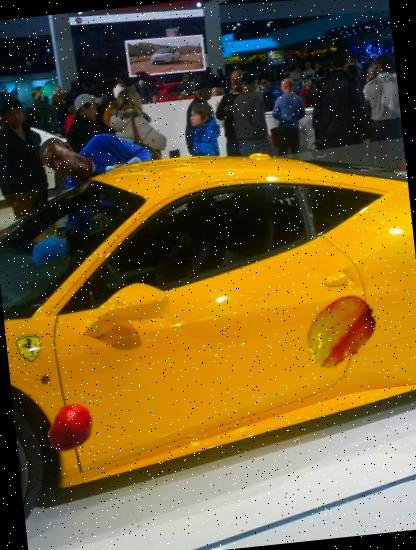Carambula: (296, 288, 385, 378)
Tomato: (40, 399, 98, 457)
